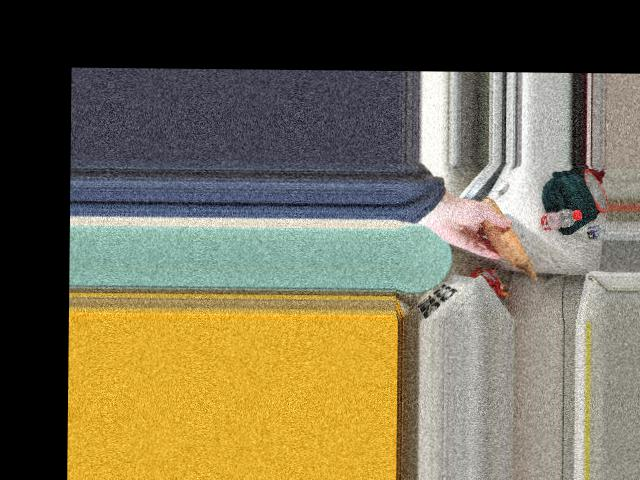sweet_potato: (472, 200, 517, 252)
